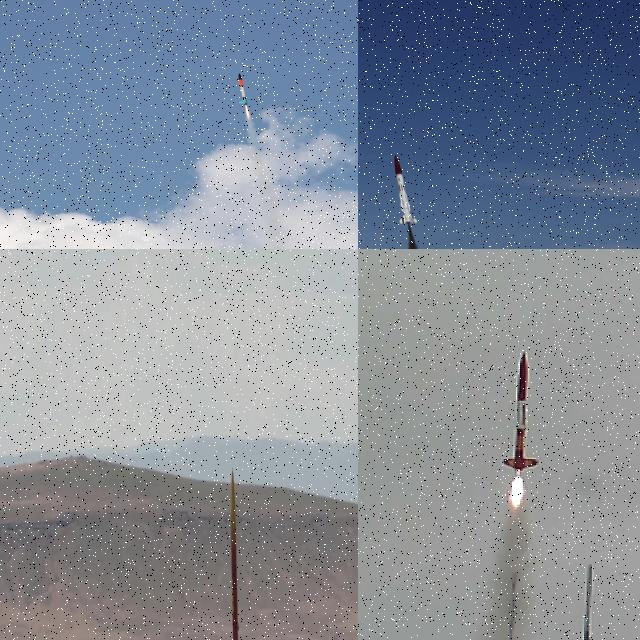Rocket: (501, 350, 539, 472), (229, 470, 244, 640), (394, 154, 418, 225), (238, 73, 251, 106)
